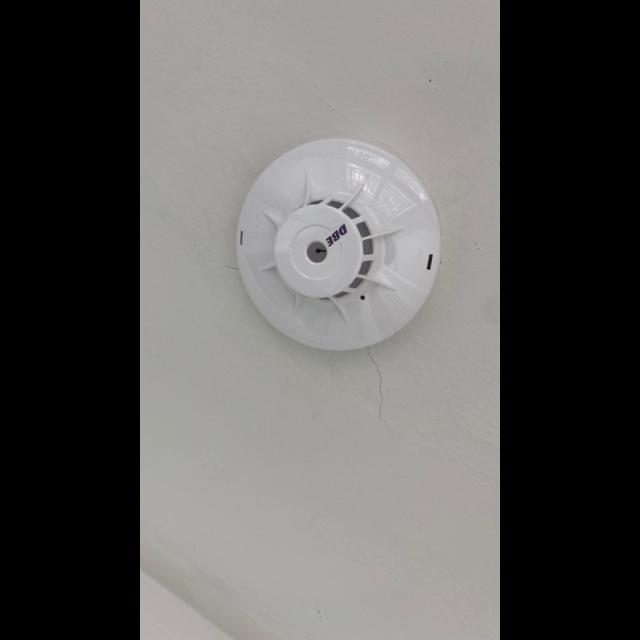Smoke-Detector: (233, 136, 443, 354)
